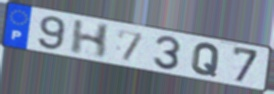3: (152, 35, 183, 71)
7: (231, 45, 261, 85), (116, 29, 145, 63)
9: (36, 14, 69, 52)
H: (68, 19, 113, 60)
Q: (190, 42, 223, 79)
